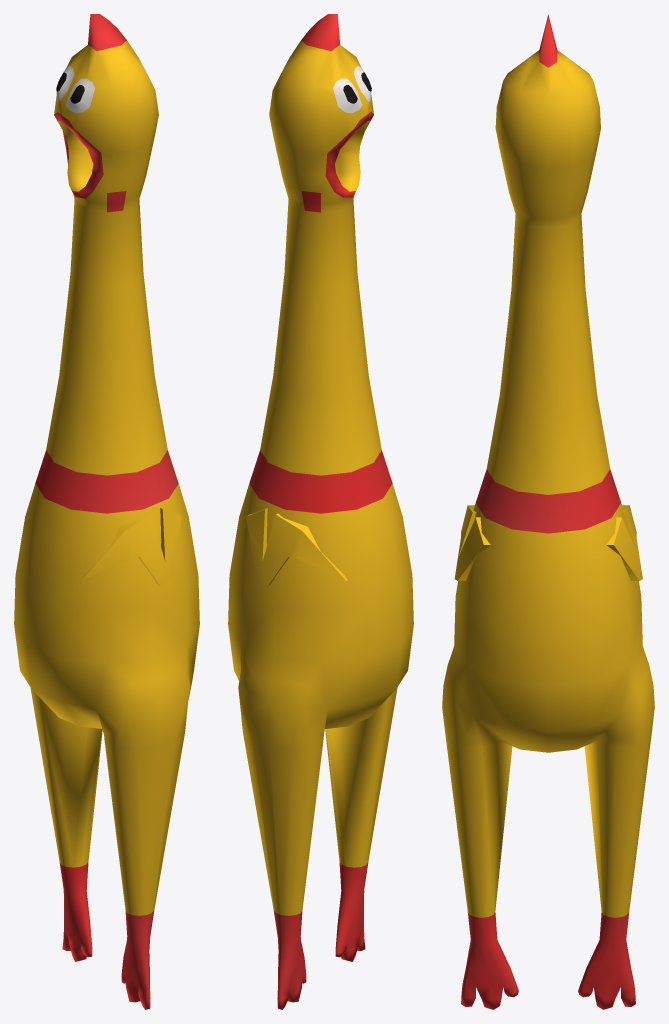
Rendered from Rubber Chicken.FBX.
The picture shows the model from 3 angles, left to right: view 1: azimuth 30°, elevation 25°; view 2: azimuth 150°, elevation 25°; view 3: azimuth 270°, elevation 25°; orthographic projection.
Visible parts, largest first — view 1: Rubber_Chicken; view 2: Rubber_Chicken; view 3: Rubber_Chicken.
Part boxes in pixels (<box>): Rubber_Chicken: <box>14,14,199,1009</box>; Rubber_Chicken: <box>228,14,413,1009</box>; Rubber_Chicken: <box>442,14,654,1009</box>.
Size of the model in its own units: 9.58 by 55.24 by 10.81.
